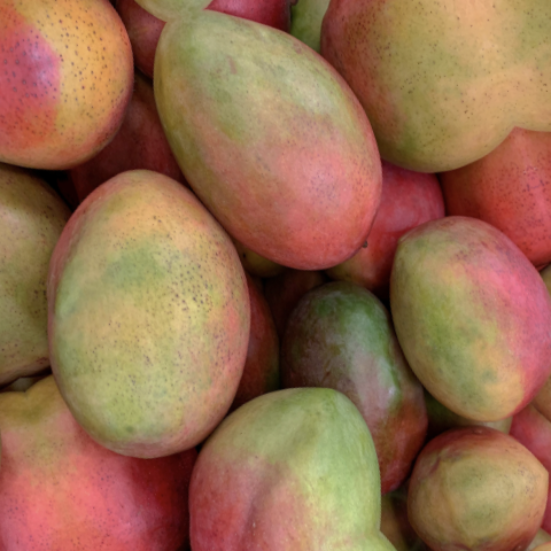mango: (92, 0, 462, 344), (0, 140, 303, 495), (150, 352, 422, 551), (356, 187, 551, 436)
